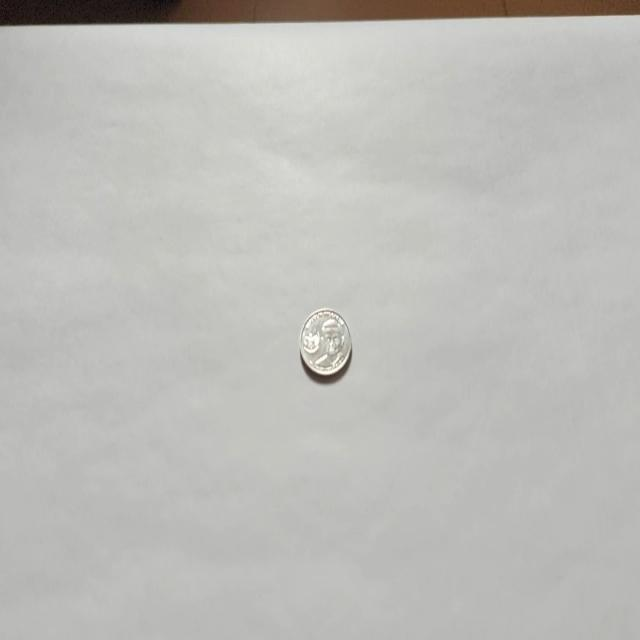seribu rupiah koin: (298, 306, 352, 378)
